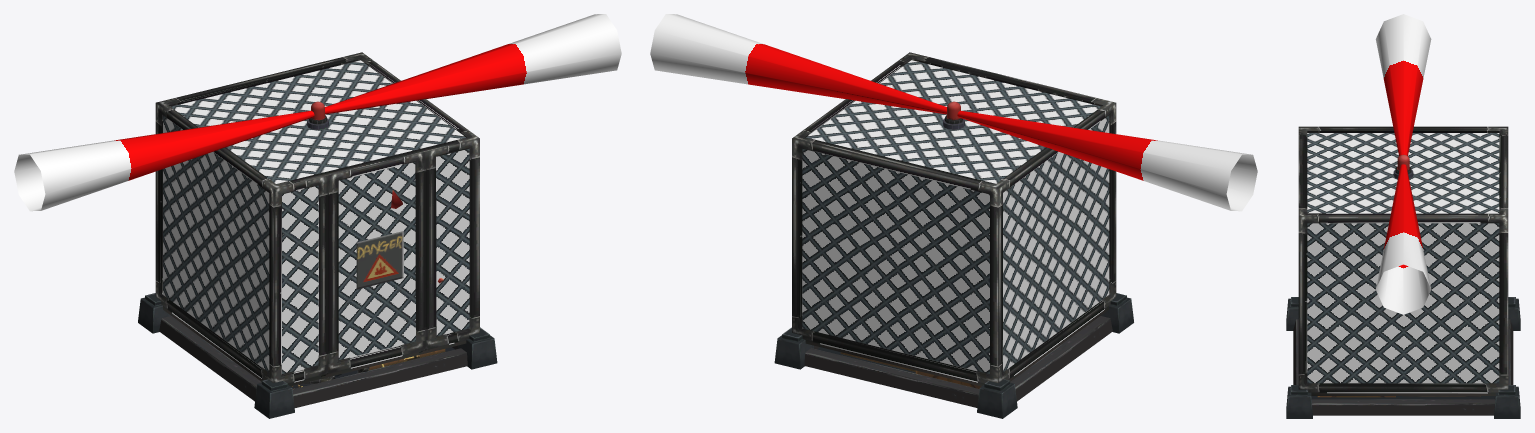
Rendered from core-cube.obj.
The picture shows the model from 3 angles, left to right: view 1: azimuth 30°, elevation 25°; view 2: azimuth 150°, elevation 25°; view 3: azimuth 270°, elevation 25°; orthographic projection. The views are drawn at different scales.
Parts seen in each view (by area): view 1: cube_fence, cube_light, cube_body; view 2: cube_fence, cube_light, cube_body; view 3: cube_fence, cube_light, cube_body.
Part boxes in pixels (x1,y1,x2,y2): cube_fence: [155, 52, 479, 386]; cube_light: [14, 14, 621, 211]; cube_body: [138, 101, 497, 418]; cube_fence: [792, 52, 1116, 386]; cube_light: [650, 14, 1257, 211]; cube_body: [774, 101, 1133, 418]; cube_fence: [1298, 126, 1508, 395]; cube_light: [1375, 14, 1431, 314]; cube_body: [1286, 154, 1520, 418].
Bounding box in the file's own units: 7.52 × 3.22 × 2.97.
3 materials, 3 textured.
